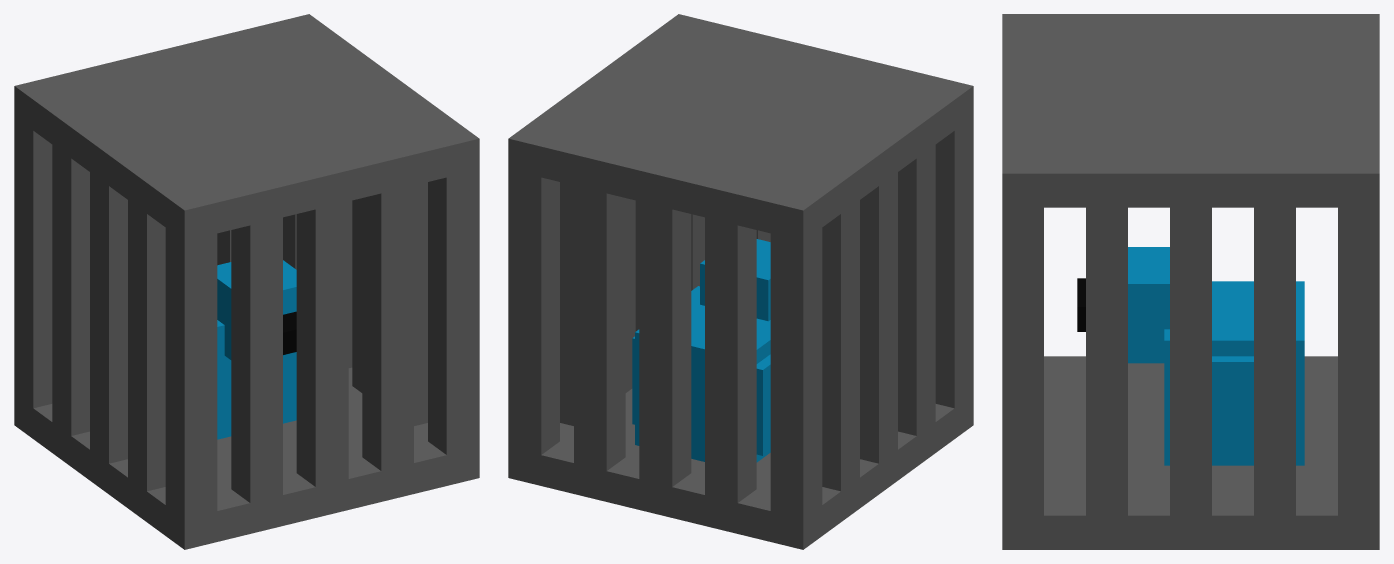
File: BirdCage.fbx
The picture shows the model from 3 angles, left to right: view 1: azimuth 30°, elevation 25°; view 2: azimuth 150°, elevation 25°; view 3: azimuth 270°, elevation 25°; orthographic projection. The views are drawn at different scales.
Visible parts, largest first — view 1: LostBird; view 2: LostBird; view 3: LostBird.
Boxes of the visible parts, x1,y1,x2,y2 form: LostBird: (14,14,479,549); LostBird: (508,14,973,549); LostBird: (1002,14,1379,549).
Bounding box in the file's own units: 3.75 × 4.12 × 3.75.
